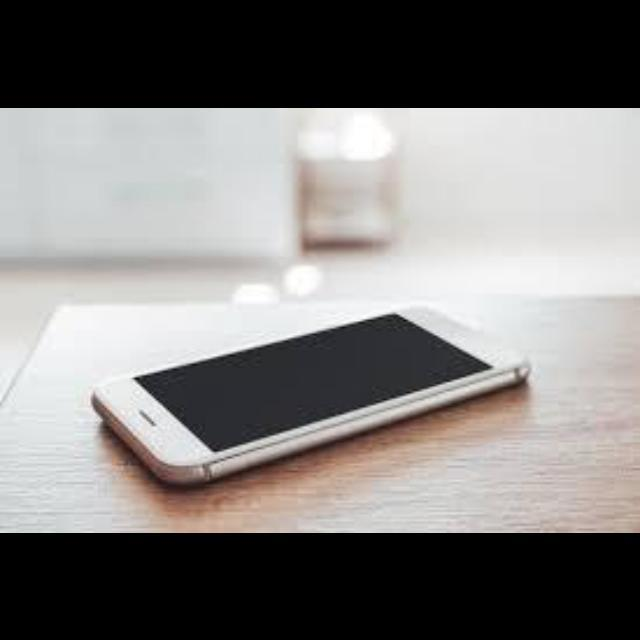Phone: (85, 305, 585, 481)
